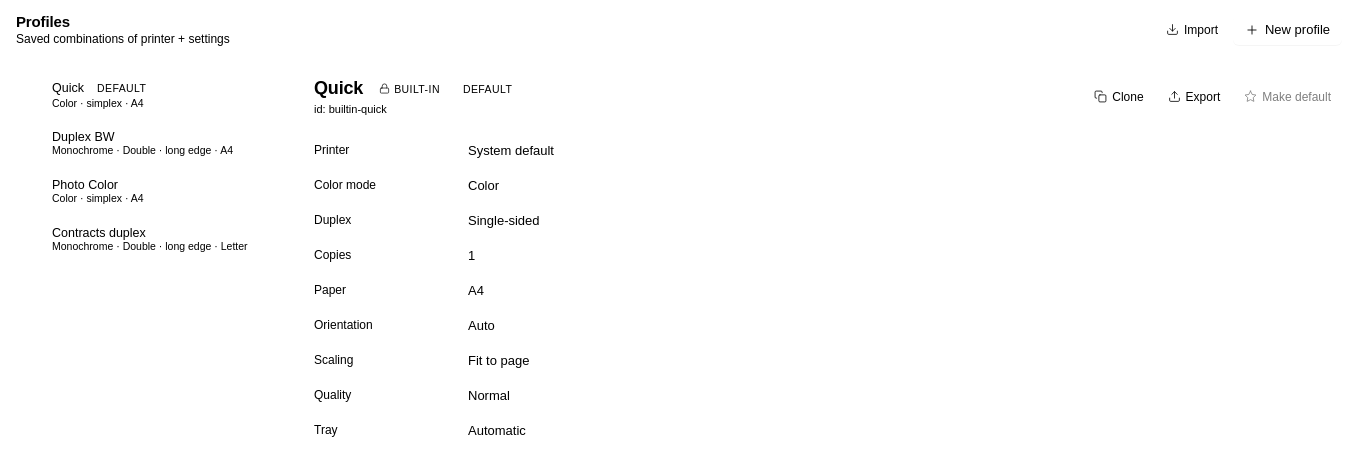
Scenario: ProfilesScreen › renders the profile list and switches the detail on select
The image size is (1348, 454).
expect the text "Photo Color" is shown: met, box x1=52 y1=178 x2=118 y2=192
expect the text "Contracts duplex" is shown: met, box x1=52 y1=226 x2=146 y2=240
Click the text "Duplex BW".
click(83, 137)  # box x1=52 y1=130 x2=114 y2=144
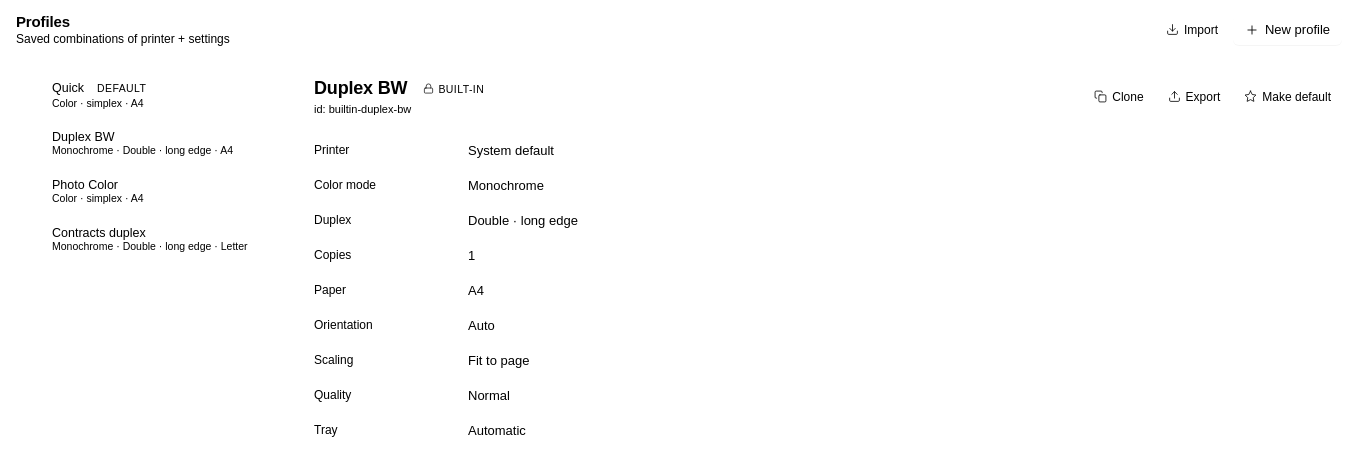
expect the text "Monochrome" is shown: met, box x1=468 y1=178 x2=544 y2=193
